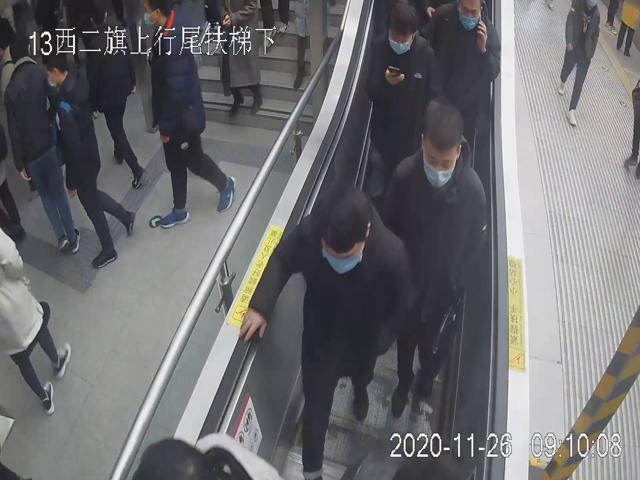person: (238, 180, 414, 480), (381, 100, 487, 418), (38, 38, 135, 269), (138, 0, 235, 228), (364, 0, 443, 193), (439, 0, 501, 144)
